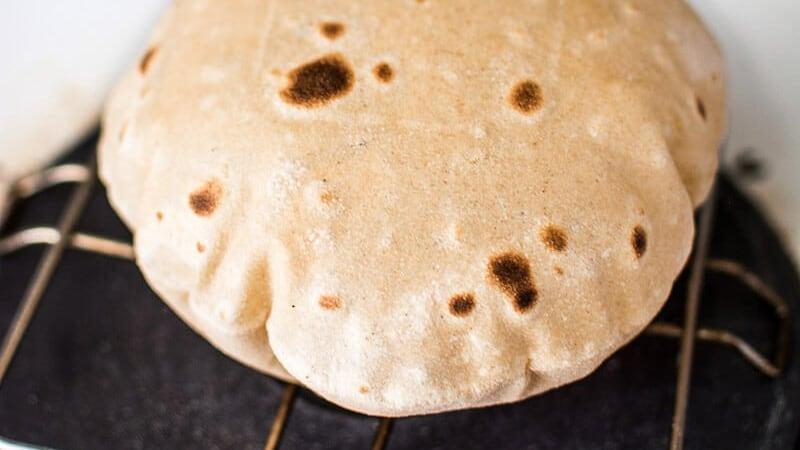roti: (102, 1, 735, 419)
